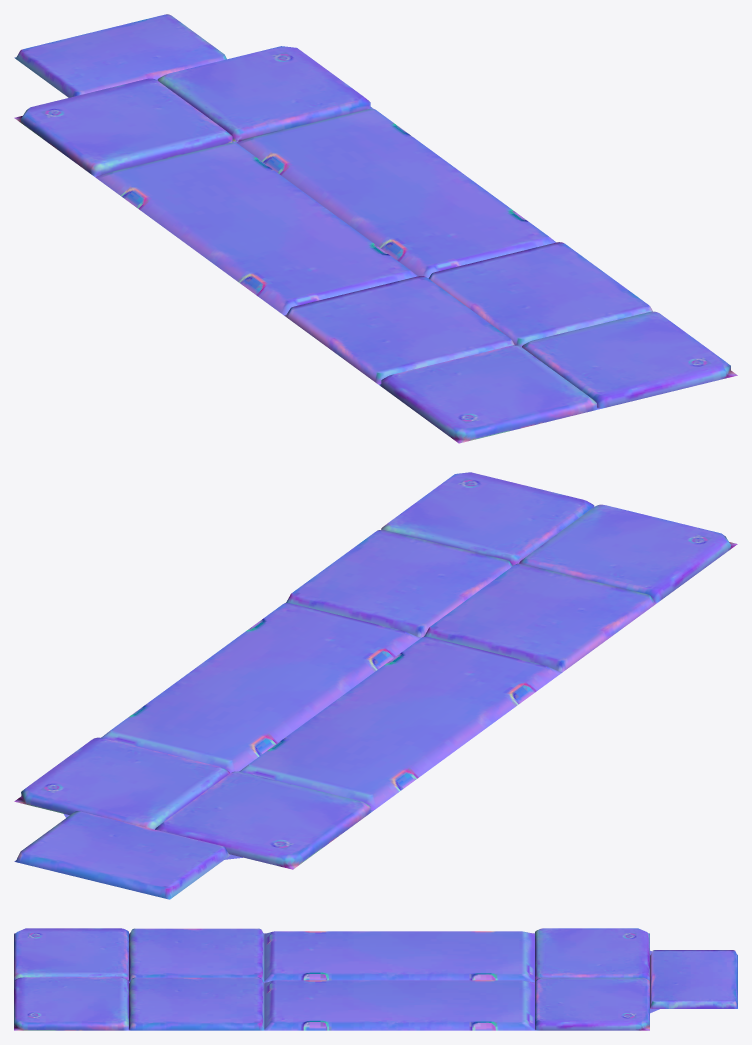
Rendered from Building_A_Staircase_C_Floor_A.fbx.
3 views of the same model, one above another, from view 1: azimuth 30°, elevation 25°; view 2: azimuth 150°, elevation 25°; view 3: azimuth 270°, elevation 25° (orthographic). The views are drawn at different scales.
Visible parts, largest first — view 1: Geom_Building_A_Staircase_C_Floor_A_LOD00; view 2: Geom_Building_A_Staircase_C_Floor_A_LOD00; view 3: Geom_Building_A_Staircase_C_Floor_A_LOD00.
Boxes of the visible parts, x1=… form: Geom_Building_A_Staircase_C_Floor_A_LOD00: x1=14, y1=14, x2=737, y2=443; Geom_Building_A_Staircase_C_Floor_A_LOD00: x1=14, y1=472, x2=737, y2=899; Geom_Building_A_Staircase_C_Floor_A_LOD00: x1=14, y1=928, x2=737, y2=1030.
Size of what is drawn, in the model's own units: 340 by 10.38 by 1070.
